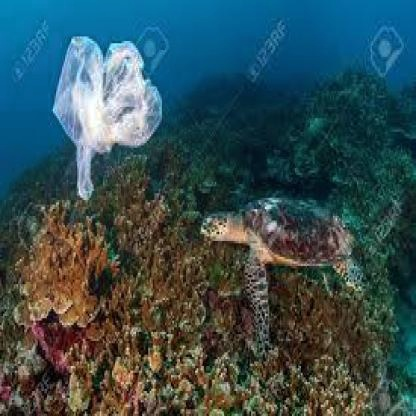pbag: (52, 34, 164, 200)
